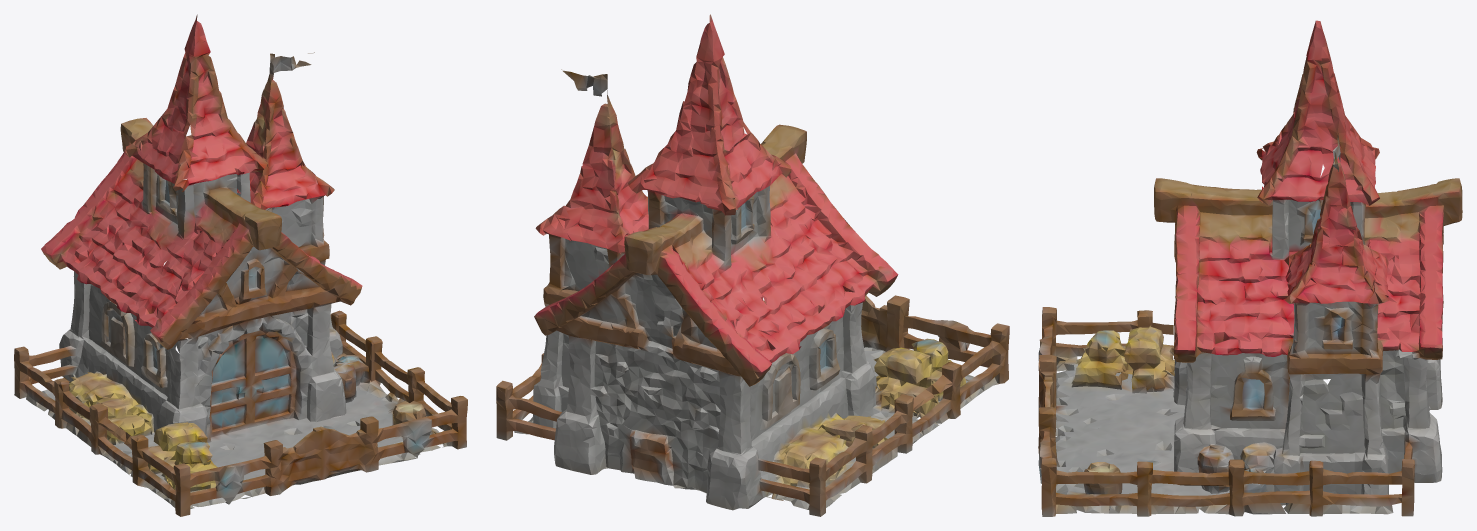
The model's file is building_royal_stable_lod1.glb.
3 renders of one model, left to right at view 1: azimuth 30°, elevation 25°; view 2: azimuth 150°, elevation 25°; view 3: azimuth 270°, elevation 25°, orthographic. The views are drawn at different scales.
Visible parts, largest first — view 1: world; view 2: world; view 3: world.
Boxes of the visible parts, left/top/right/bottom form: world: left=14, top=14, right=467, bottom=516; world: left=496, top=14, right=1009, bottom=516; world: left=1038, top=20, right=1462, bottom=516.
Size of the model in its own units: 1.52 by 1.9 by 1.73.
